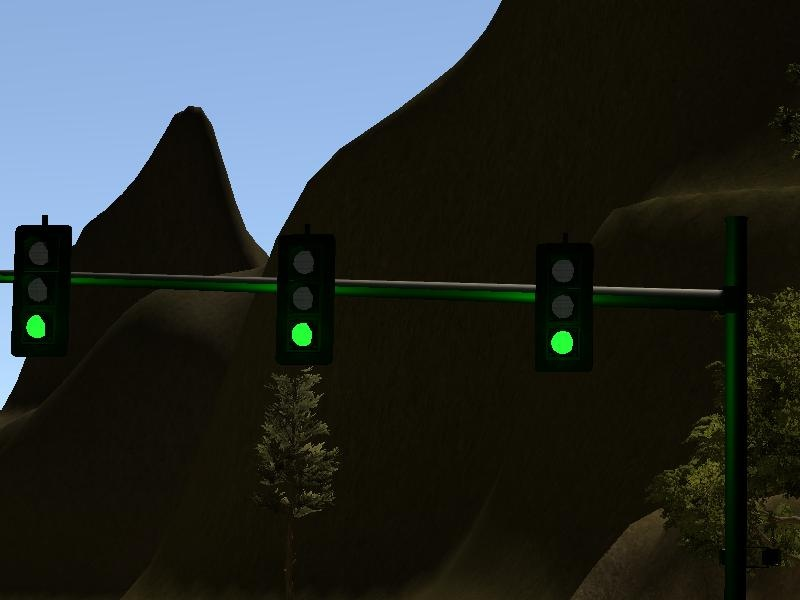Green: (276, 233, 334, 366), (12, 223, 69, 358), (536, 244, 593, 374)
